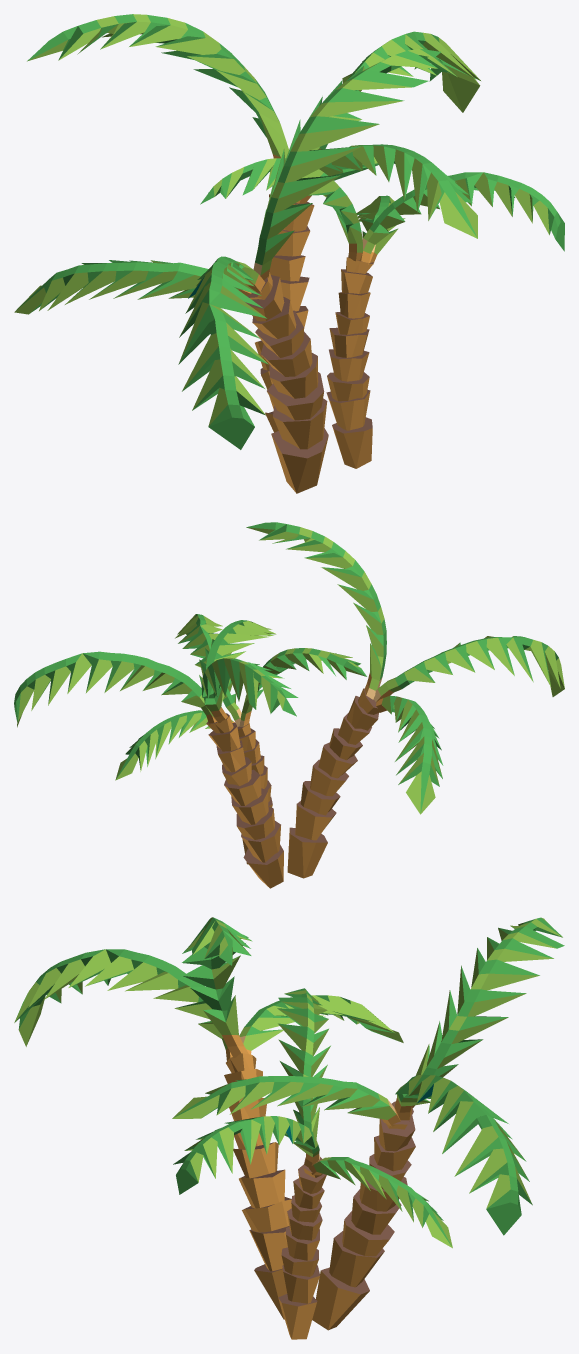
Rendered from tree7.glb.
The picture shows the model from 3 angles, top to bottom: view 1: azimuth 30°, elevation 25°; view 2: azimuth 150°, elevation 25°; view 3: azimuth 270°, elevation 25°; orthographic projection. The views are drawn at different scales.
Parts seen in each view (by area): view 1: group95423842, group2120525022, group168381868; view 2: group95423842, group2120525022, group168381868; view 3: group2120525022, group95423842, group168381868.
Boxes of the visible parts, box(x1,y1,x2,y2) form: group95423842: box(14, 48, 440, 493); group2120525022: box(27, 14, 480, 432); group168381868: box(200, 158, 564, 468); group95423842: box(246, 522, 564, 878); group2120525022: box(14, 620, 298, 888); group168381868: box(115, 614, 366, 864); group2120525022: box(172, 917, 564, 1330); group95423842: box(14, 917, 403, 1319); group168381868: box(173, 988, 452, 1339).
Size of the model in its own units: 0.3234 by 0.2674 by 0.3224.
